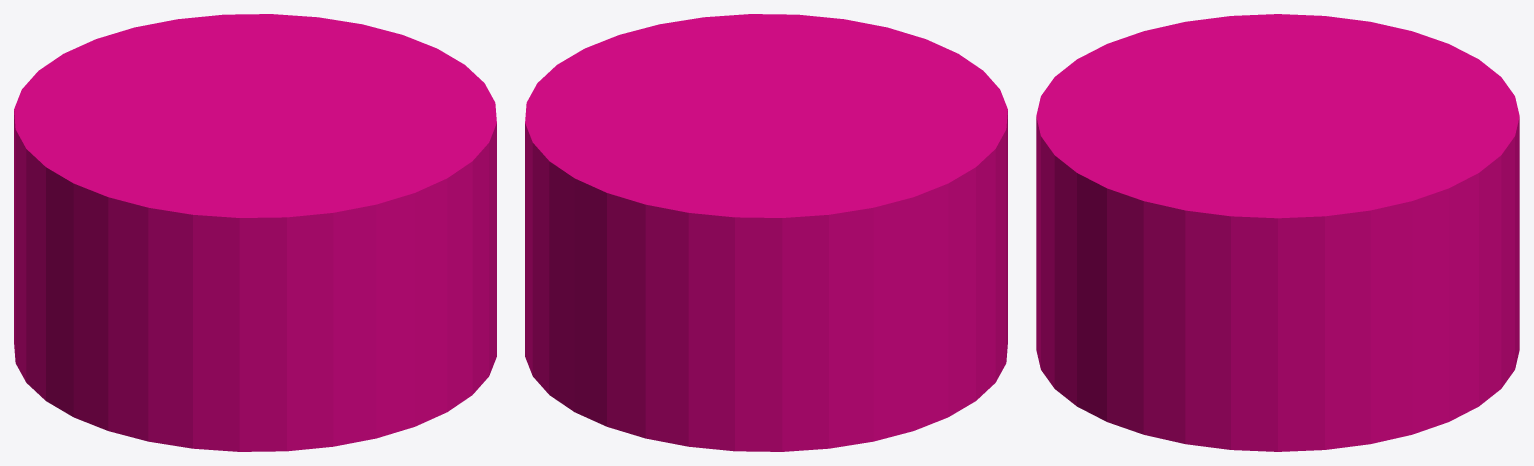
3 views of the same model, side by side, from view 1: azimuth 30°, elevation 25°; view 2: azimuth 150°, elevation 25°; view 3: azimuth 270°, elevation 25° (orthographic).
Parts seen in each view (by area): view 1: tmp_export_Cylinder.007; view 2: tmp_export_Cylinder.007; view 3: tmp_export_Cylinder.007.
Part boxes in pixels (left/top/right/bottom): tmp_export_Cylinder.007: left=14, top=14, right=496, bottom=451; tmp_export_Cylinder.007: left=525, top=14, right=1007, bottom=451; tmp_export_Cylinder.007: left=1036, top=14, right=1519, bottom=451.
Size of the model in its own units: 2 by 2 by 1.07.
